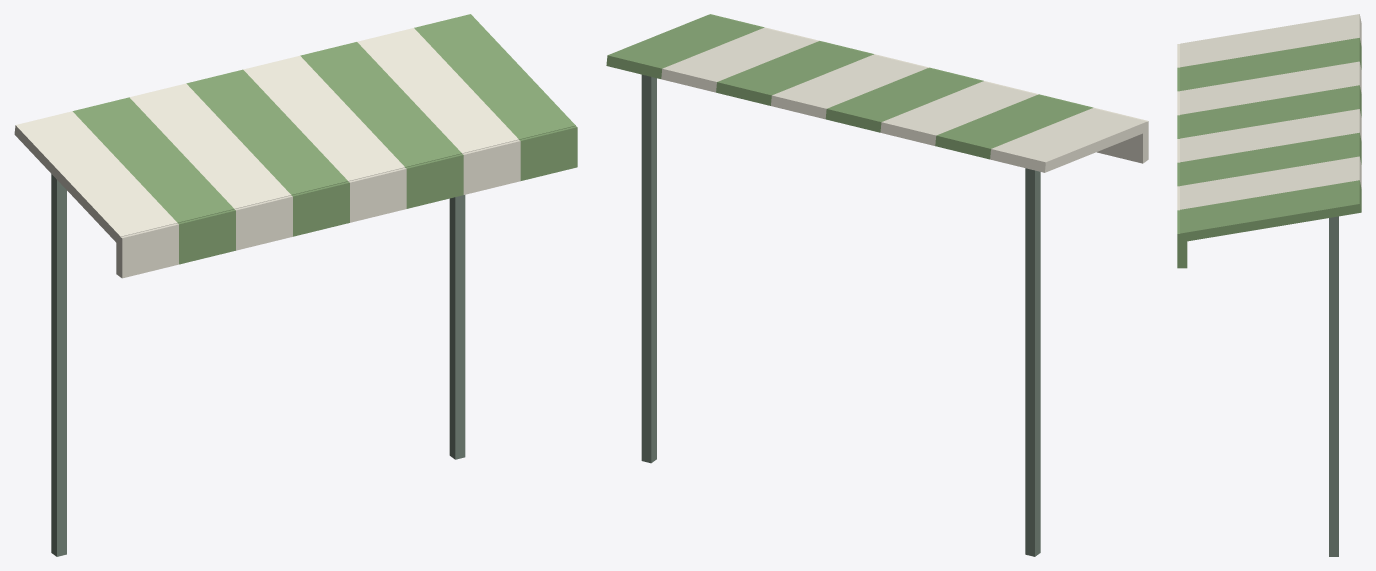
Rendered from shop_awning.glb.
3 views of the same model, side by side, from view 1: azimuth 30°, elevation 25°; view 2: azimuth 150°, elevation 25°; view 3: azimuth 270°, elevation 25° (orthographic). The views are drawn at different scales.
Visible parts, largest first — view 1: Canvas stripe, Canvas stripe.001, Canvas stripe.006, Canvas stripe.004, Canvas stripe.005, Canvas stripe.007, Canvas stripe.002, Canvas stripe.003, Awning support, Awning support.001, Scallop, Scallop.007 (+6 smaller); view 2: Awning support.001, Awning support, Canvas stripe, Canvas stripe.001, Canvas stripe.005, Canvas stripe.002, Canvas stripe.006, Canvas stripe.004, Canvas stripe.007, Canvas stripe.003, Scallop; view 3: Canvas stripe.007, Canvas stripe.006, Canvas stripe.002, Canvas stripe, Canvas stripe.003, Canvas stripe.004, Canvas stripe.005, Canvas stripe.001, Awning support.001, Scallop.007.
Boxes of the visible parts, x1=… form: Canvas stripe: x1=14, y1=111, x2=177, y2=245; Canvas stripe.001: x1=72, y1=97, x2=233, y2=222; Canvas stripe.006: x1=357, y1=28, x2=518, y2=153; Canvas stripe.004: x1=243, y1=55, x2=404, y2=181; Canvas stripe.005: x1=300, y1=42, x2=461, y2=167; Canvas stripe.007: x1=414, y1=14, x2=575, y2=139; Canvas stripe.002: x1=130, y1=83, x2=290, y2=209; Canvas stripe.003: x1=186, y1=69, x2=348, y2=195; Awning support: x1=51, y1=174, x2=66, y2=556; Awning support.001: x1=449, y1=195, x2=465, y2=459; Scallop: x1=116, y1=223, x2=178, y2=278; Scallop.007: x1=519, y1=126, x2=577, y2=180; Awning support.001: x1=641, y1=74, x2=656, y2=463; Awning support: x1=1025, y1=168, x2=1040, y2=556; Canvas stripe: x1=990, y1=108, x2=1146, y2=172; Canvas stripe.001: x1=935, y1=95, x2=1091, y2=159; Canvas stripe.005: x1=716, y1=41, x2=872, y2=105; Canvas stripe.002: x1=880, y1=81, x2=1036, y2=145; Canvas stripe.006: x1=661, y1=28, x2=817, y2=92; Canvas stripe.004: x1=771, y1=55, x2=927, y2=119; Canvas stripe.007: x1=606, y1=14, x2=762, y2=78; Canvas stripe.003: x1=825, y1=68, x2=981, y2=132; Scallop: x1=1093, y1=107, x2=1148, y2=163; Canvas stripe.007: x1=1180, y1=180, x2=1361, y2=242; Canvas stripe.006: x1=1180, y1=156, x2=1361, y2=209; Canvas stripe.002: x1=1180, y1=61, x2=1361, y2=114; Canvas stripe: x1=1180, y1=14, x2=1361, y2=67; Canvas stripe.003: x1=1180, y1=85, x2=1361, y2=138; Canvas stripe.004: x1=1180, y1=109, x2=1361, y2=162; Canvas stripe.005: x1=1180, y1=132, x2=1361, y2=185; Canvas stripe.001: x1=1180, y1=38, x2=1361, y2=90; Awning support.001: x1=1329, y1=216, x2=1338, y2=556; Scallop.007: x1=1177, y1=210, x2=1187, y2=268.
Bounding box in the file's own units: 3.2 × 2.85 × 1.31.
